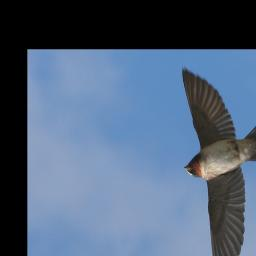Swallow: (181, 68, 256, 256)
